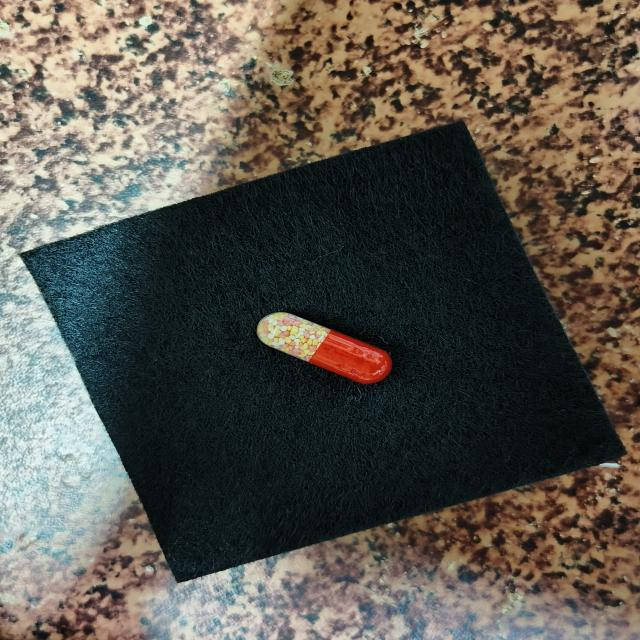Intact Capsule: (257, 312, 392, 384)
